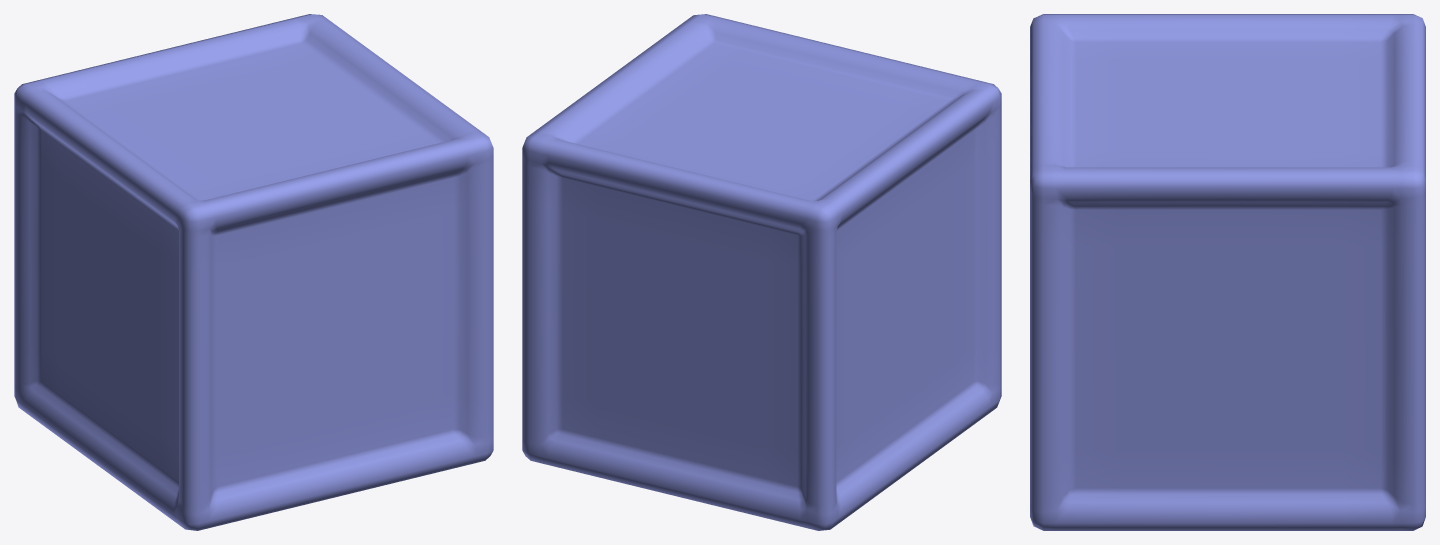
The model's file is Blue Block.fbx.
The picture shows the model from 3 angles, left to right: view 1: azimuth 30°, elevation 25°; view 2: azimuth 150°, elevation 25°; view 3: azimuth 270°, elevation 25°; orthographic projection. The views are drawn at different scales.
Parts seen in each view (by area): view 1: pCube11; view 2: pCube11; view 3: pCube11.
Boxes of the visible parts, bbox=[...] form: pCube11: bbox=[14, 14, 493, 530]; pCube11: bbox=[522, 14, 1001, 530]; pCube11: bbox=[1030, 14, 1425, 530].
Size of the model in its own units: 1.88 by 1.88 by 1.88.
